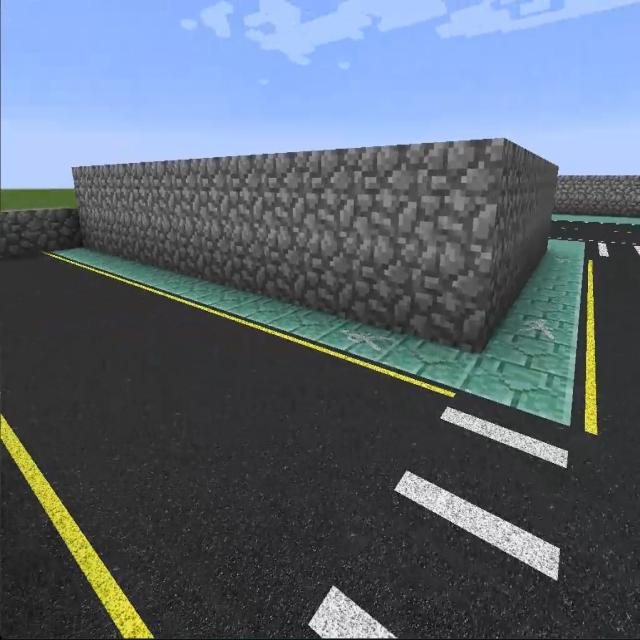crosswalk: (275, 390, 572, 639), (584, 241, 639, 259)
road: (0, 253, 452, 639), (563, 258, 639, 639), (549, 223, 639, 242)
sidewalk: (46, 239, 585, 428), (550, 213, 639, 225)
